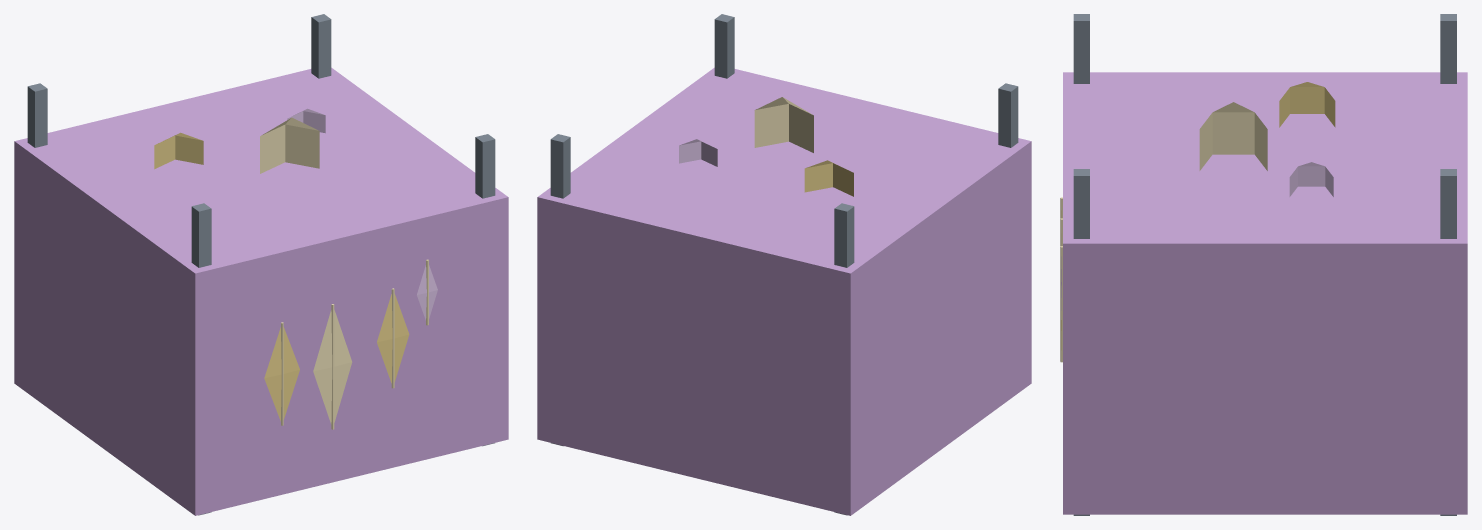
The model's file is geoda_grande.glb.
The picture shows the model from 3 angles, left to right: view 1: azimuth 30°, elevation 25°; view 2: azimuth 150°, elevation 25°; view 3: azimuth 270°, elevation 25°; orthographic projection. The views are drawn at different scales.
Parts seen in each view (by area): view 1: geoda_grande; view 2: geoda_grande; view 3: geoda_grande.
Part boxes in pixels (bbox=[...]): geoda_grande: bbox=[14, 14, 508, 515]; geoda_grande: bbox=[537, 14, 1031, 515]; geoda_grande: bbox=[1060, 14, 1467, 515].
Bounding box in the file's own units: 1.73 × 1.61 × 1.74.
